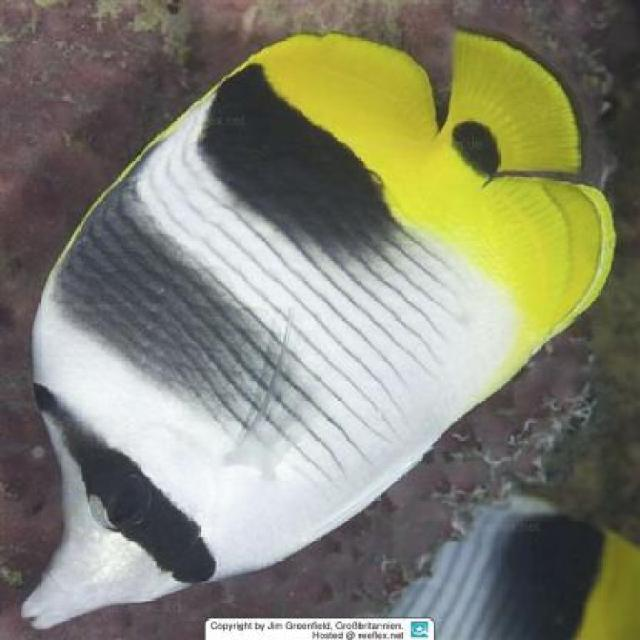ButterflyFish: (17, 31, 615, 634)
